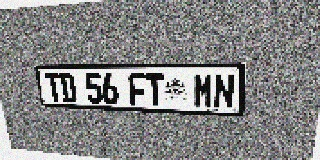5: (85, 73, 103, 104)
6: (100, 73, 119, 105)
D: (59, 73, 77, 103)
F: (128, 73, 147, 106)
M: (194, 73, 214, 108)
N: (213, 73, 235, 109)
T: (146, 73, 164, 106), (45, 73, 63, 102)
